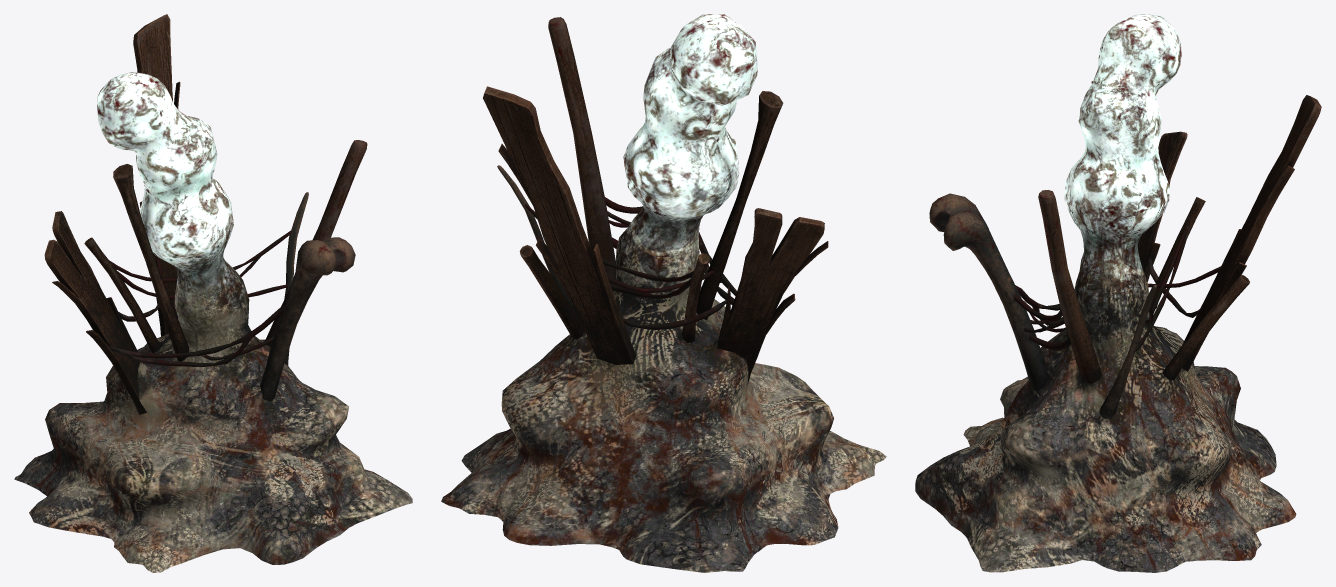
File: fetish_light.DAE
3 renders of one model, left to right at view 1: azimuth 30°, elevation 25°; view 2: azimuth 150°, elevation 25°; view 3: azimuth 270°, elevation 25°, orthographic. The views are drawn at different scales.
Visible parts, largest first — view 1: fetish_light; view 2: fetish_light; view 3: fetish_light.
Part boxes in pixels (x1,y1,x2,y2): fetish_light: (14,14,412,572); fetish_light: (441,14,886,572); fetish_light: (915,14,1321,572).
Bounding box in the file's own units: 77.04 × 99.79 × 82.07.
